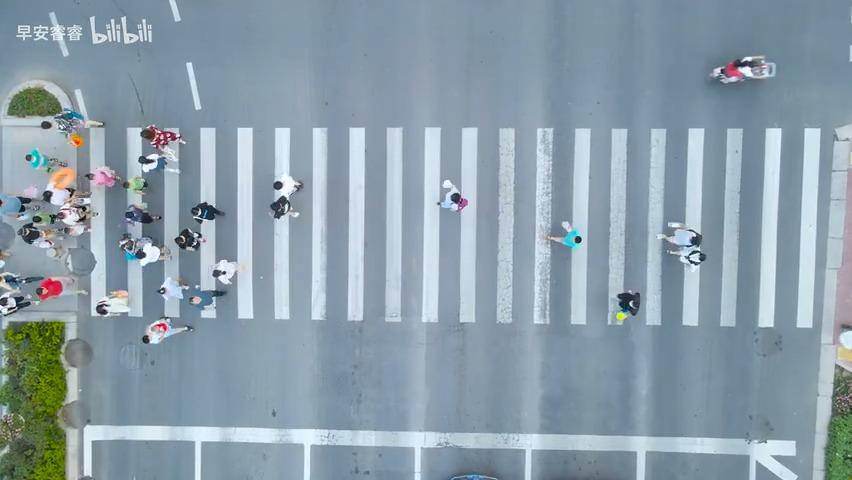Civilian: (38, 103, 104, 140), (116, 231, 175, 272), (655, 221, 706, 268), (710, 55, 772, 84), (114, 166, 159, 201), (269, 173, 303, 219), (20, 138, 61, 176), (35, 274, 80, 307), (141, 316, 194, 344), (207, 252, 246, 289), (97, 287, 133, 325), (115, 200, 160, 229), (150, 275, 193, 304), (139, 124, 186, 150), (10, 216, 46, 249), (52, 199, 99, 224), (82, 165, 122, 194), (543, 220, 582, 249), (436, 178, 468, 212), (1, 187, 38, 216), (41, 180, 79, 207), (190, 288, 221, 316), (190, 201, 225, 224), (174, 227, 205, 251), (615, 290, 640, 319), (269, 195, 299, 219), (0, 297, 28, 321)
